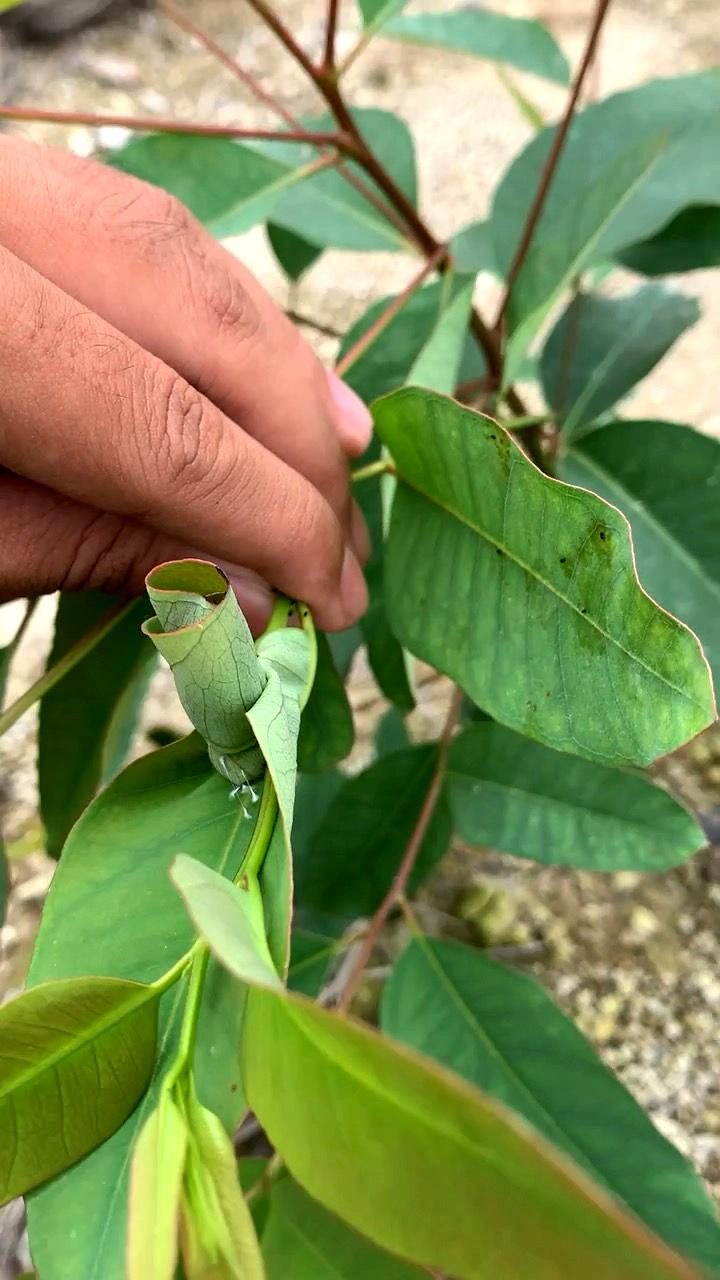Leaf Roller - Leaf: (127, 538, 301, 818)
